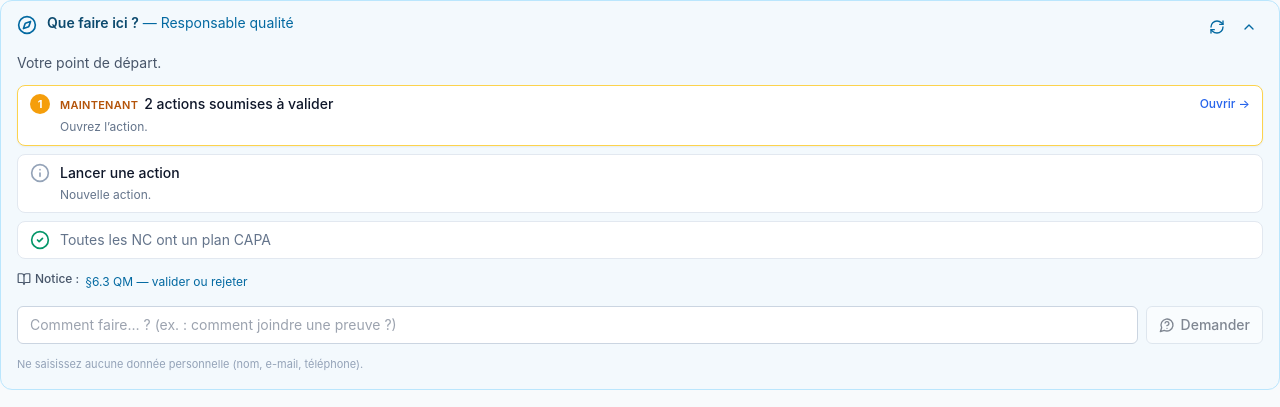
Test: GuidePanel › se replie en gardant la prochaine étape visible, et s’en souvient
Check: the text "2 actions soumises à valider" is shown, box [144,95,333,112]
Click the button named "Masquer le guide" at [1249, 27], box [1235,13,1263,41]
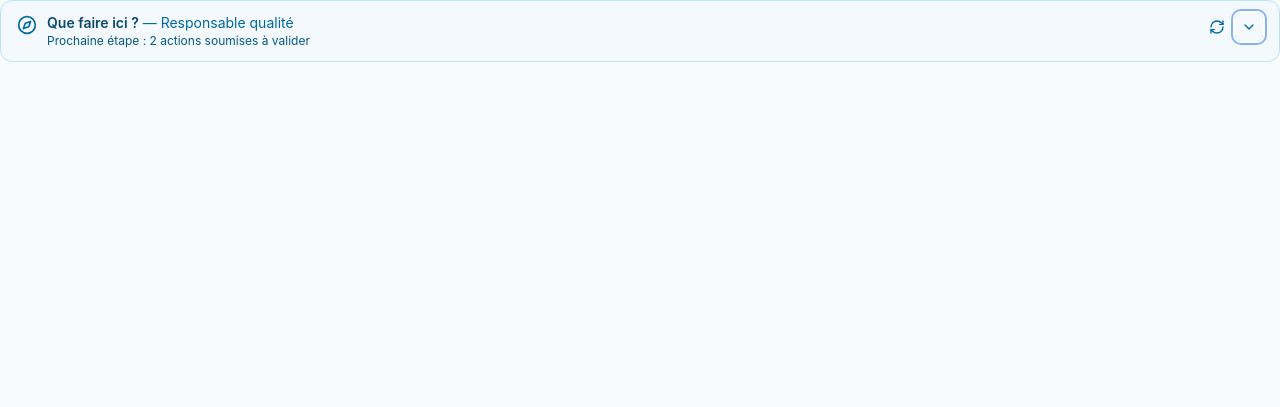
Check: the text "Prochaine étape : 2 actions soumises à valider" is shown, box [47,33,310,49]
